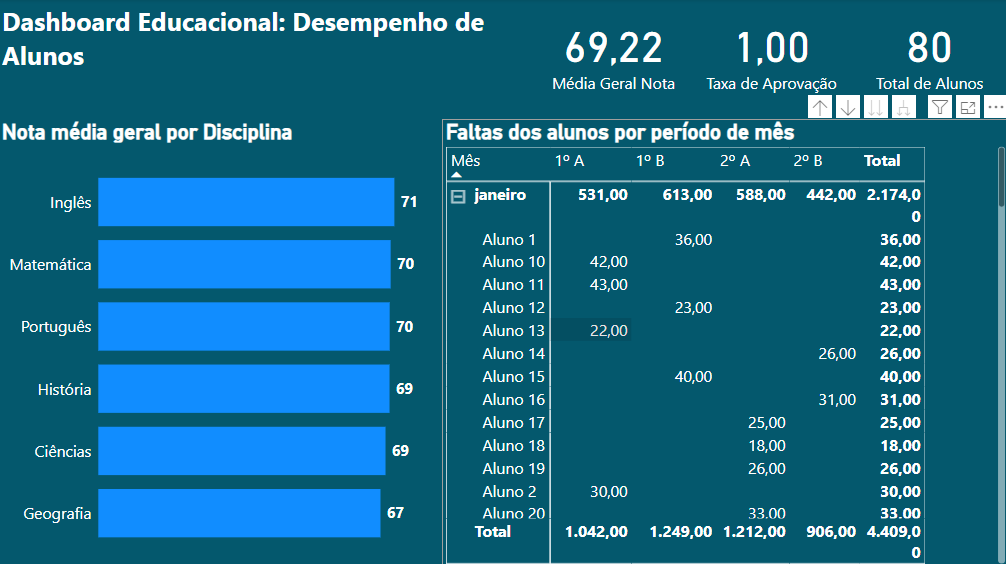

The page's visual inventory and layout, read from the dashboard file:
{"tool":"powerbi","page":{"name":"Página 1","canvas":[1280,720],"ordinal":0},"visuals":[{"type":"card","fields":{"Values":["Medidas.Média Geral"]},"box":[678.1,0,201.2,134.1],"z":0},{"type":"card","fields":{"Values":["Medidas.Taxa de Aprovação"]},"box":[879.2,0,201.2,134.1],"z":1000},{"type":"card","fields":{"Values":["Medidas.Total de Alunos"]},"box":[1080.4,0,199.2,134.1],"z":2000},{"type":"barChart","title":"Nota média geral por Disciplina","fields":{"Y":["Medidas.Média Geral Nota"],"Category":["Dashboard_Educacional_PowerBI.Disciplina"]},"box":[0,151.9,562.1,568],"z":3000},{"type":"pivotTable","title":"Faltas dos alunos por período de mês","fields":{"Rows":["Dashboard_Educacional_PowerBI.Período.Variation.Hierarquia de datas.Mês","Dashboard_Educacional_PowerBI.Aluno"],"Values":["Sum(Dashboard_Educacional_PowerBI.Faltas Ajustadas)"],"Columns":["Dashboard_Educacional_PowerBI.Turma"]},"box":[562,152,718,568],"z":4000},{"type":"textbox","box":[0,0,640,123.4],"z":5000}]}

Visuals, with their boxes in screenshot pixels (x1, y1, x2, y2), scaled from the page's 1280x720 canvas onto the 1006x564 screenshot:
card - Medidas.Média Geral: box(533, 0, 691, 105)
card - Medidas.Taxa de Aprovação: box(691, 0, 849, 105)
card - Medidas.Total de Alunos: box(849, 0, 1005, 105)
"Nota média geral por Disciplina" barChart: box(0, 119, 442, 563)
"Faltas dos alunos por período de mês" pivotTable: box(442, 119, 1005, 563)
textbox: box(0, 0, 503, 97)
